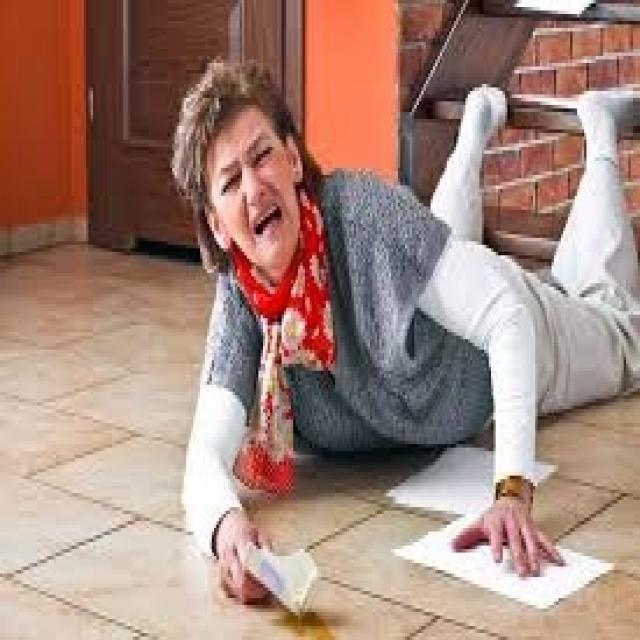fall: (165, 52, 640, 633)
